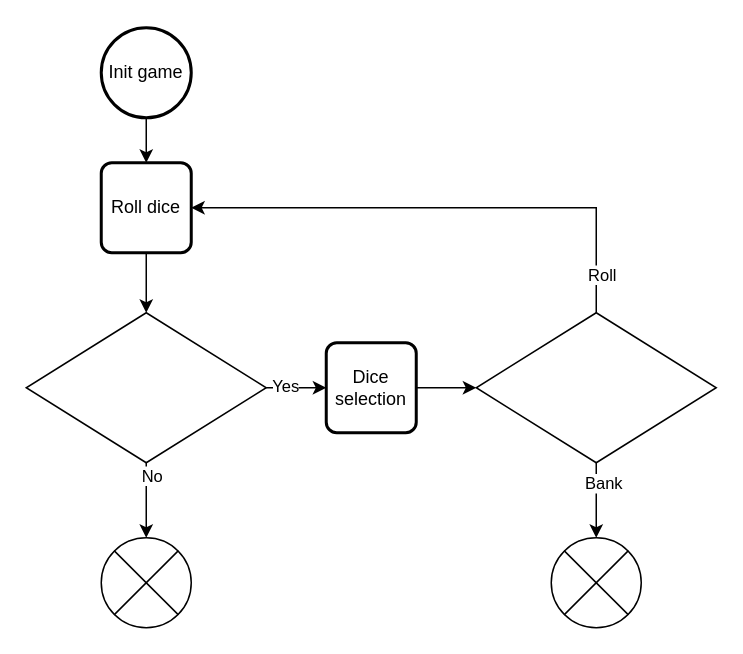
The diagram is 743 pixels wide and 654 high, and some of its shapes have lost their labels. The shapes that lost their labels are listed below. From the top down, each one's centre as x and y in pixels, then its label:
At point (145, 387): "At least 1 scoring dice ?".
At point (595, 387): "Roll or bank score ?".
